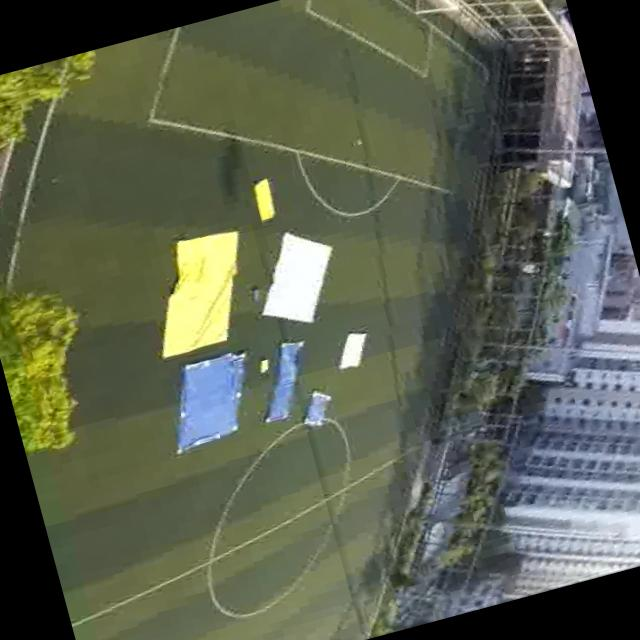danger: (150, 353, 264, 452), (266, 335, 318, 397), (296, 387, 338, 431)
safety: (247, 221, 355, 331), (327, 325, 377, 377)
warning: (133, 226, 258, 358), (242, 176, 286, 228)
